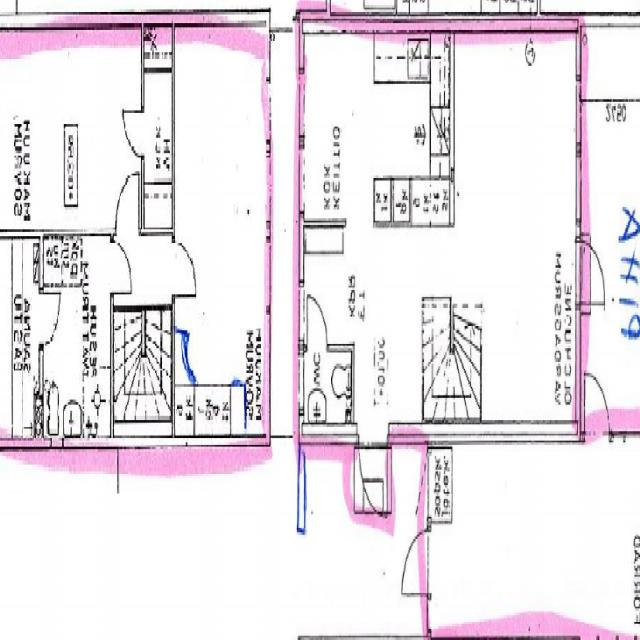door: (358, 424, 390, 524), (401, 532, 431, 596), (585, 367, 609, 442), (575, 240, 604, 301), (116, 171, 139, 237), (40, 291, 66, 347), (172, 240, 196, 294), (111, 244, 134, 292), (308, 298, 327, 352), (124, 112, 145, 157)
